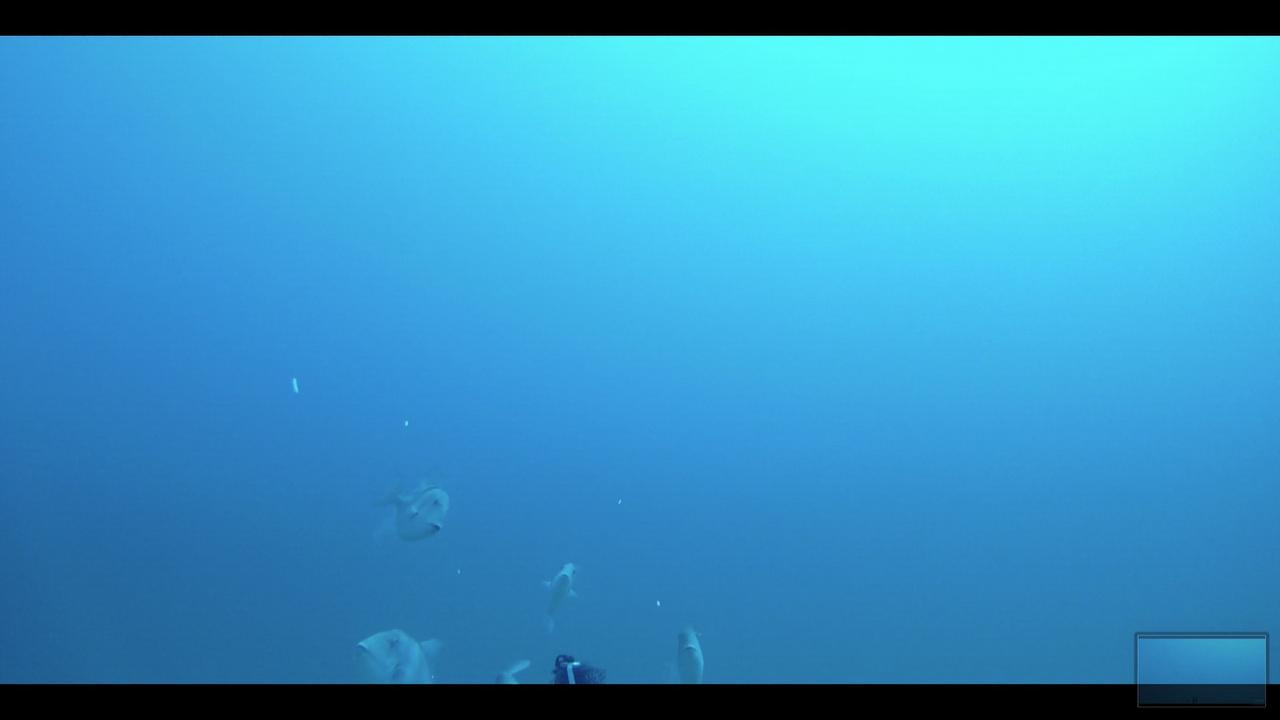balistes: (369, 462, 452, 546), (347, 622, 445, 682), (535, 553, 581, 639), (661, 624, 710, 680)
